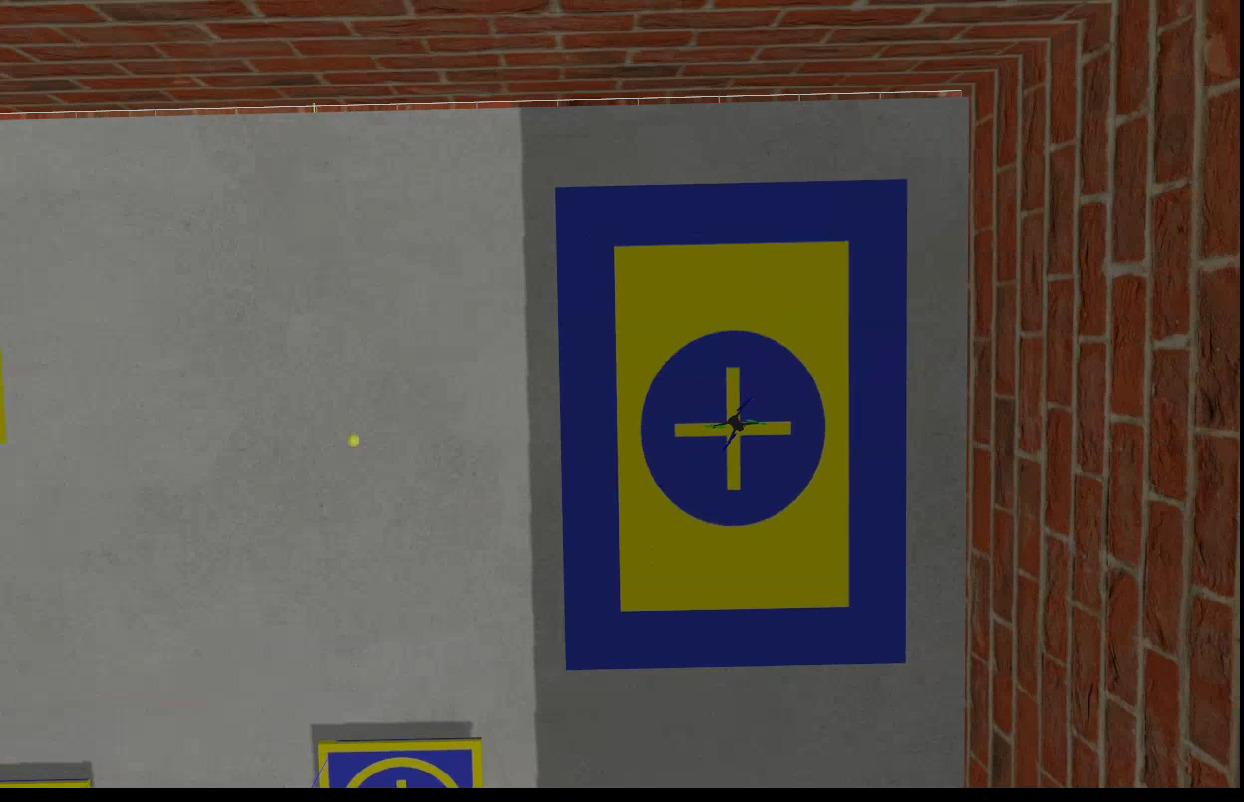large_base: (553, 179, 908, 670)
small_base: (318, 739, 487, 794)
